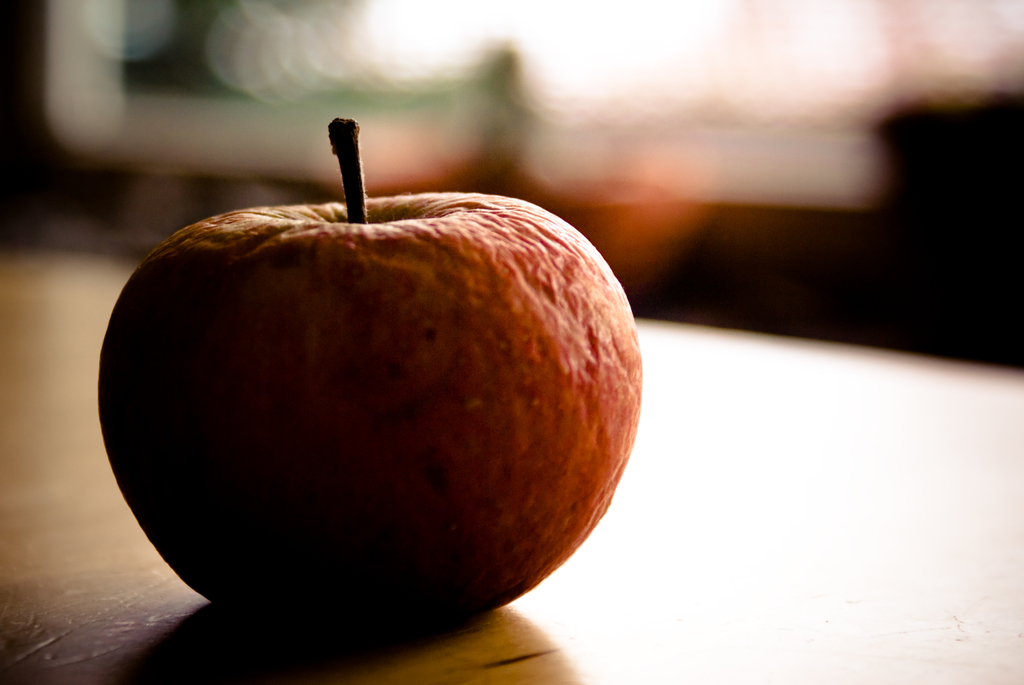Apple: (134, 136, 653, 669)
